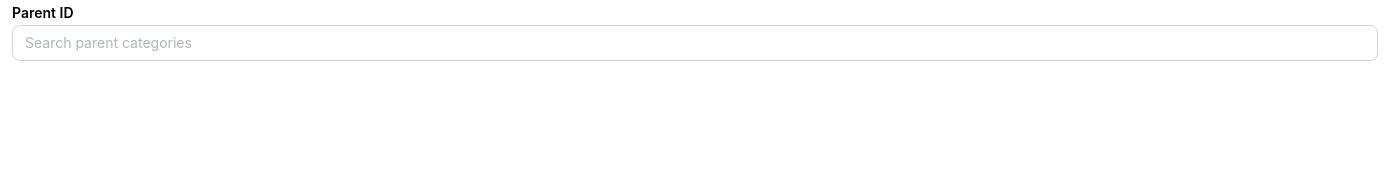
Test: CategoryParentPicker › keeps inactive ordinary options disabled
Later steps or results of the test are not shown.
What coordinates should you click on to do the following:
click the dropdown labelled "Parent ID"
I would click on:
 (695, 43)
Its box is [12, 25, 1378, 61].
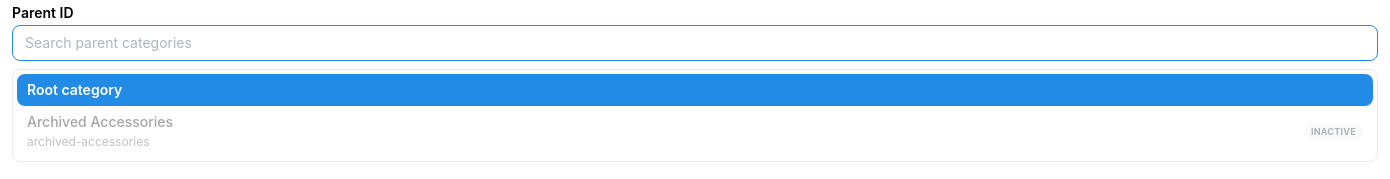
Check: the text "Inactive" is shown, box [1311, 125, 1356, 139]
